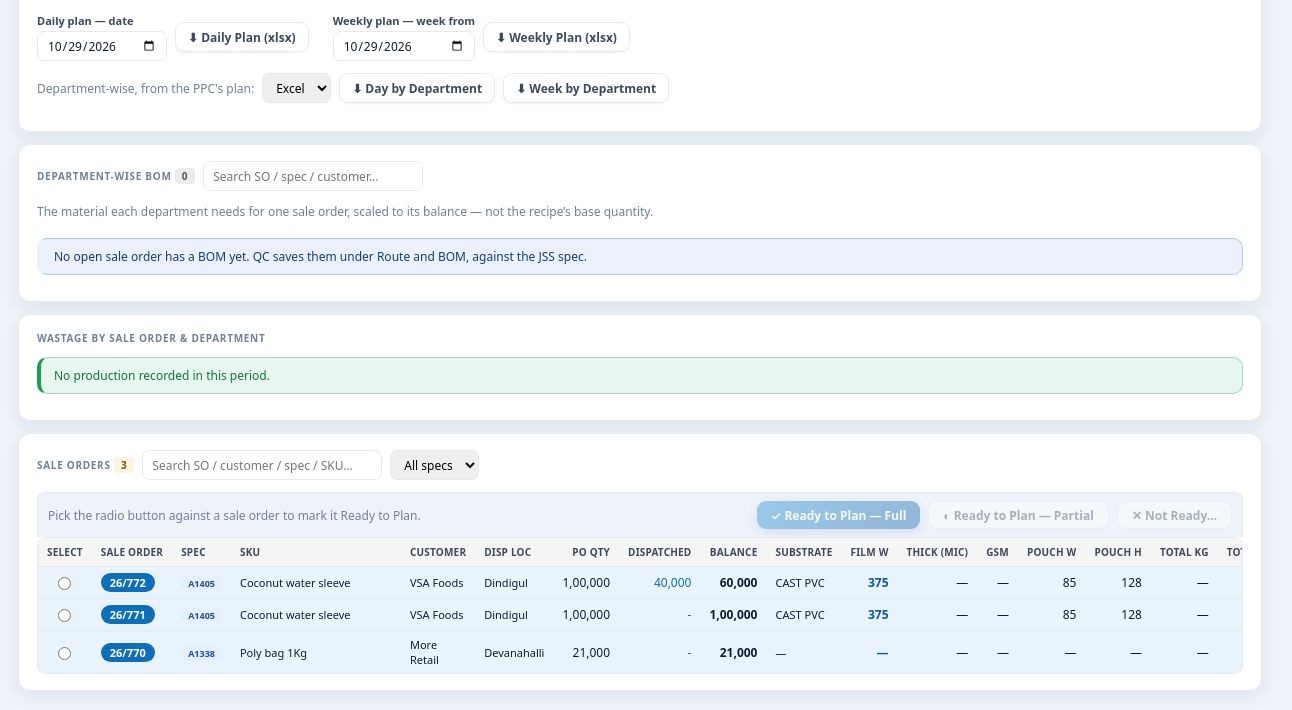
PLAN — what is allocated AND issued to the order (30.09) › shows a roll the stores issued to the order as issued, counts it, and offers no release for it
(page scrolled)
Expected: the text "Sale orders 3" is shown, [37,457,134,473]
Click the radio button named "Select 26/771": [65, 616] box [58,609,71,622]
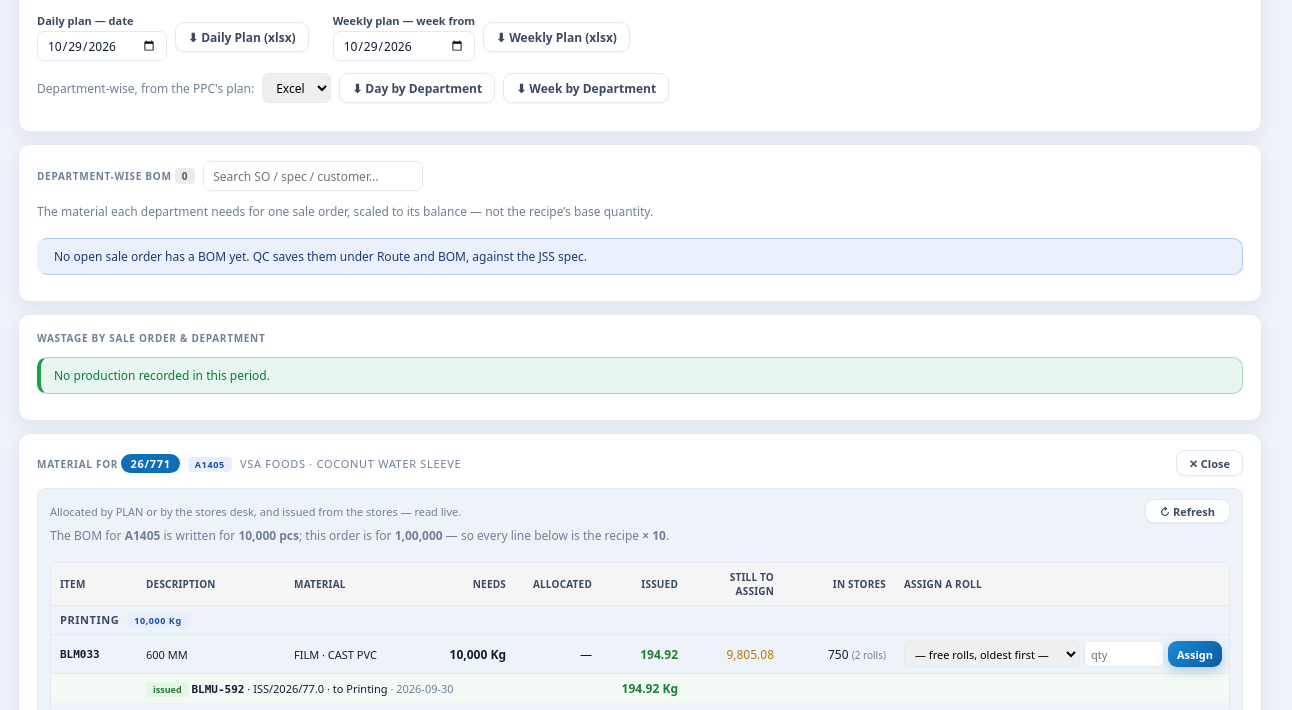
Now the text "BLMU-592" is shown, box [192,682,244,696]
Now the text "194.92" is shown, box [601,634,687,674]
Now the text "9,805.08" is shown, box [687,634,783,674]
